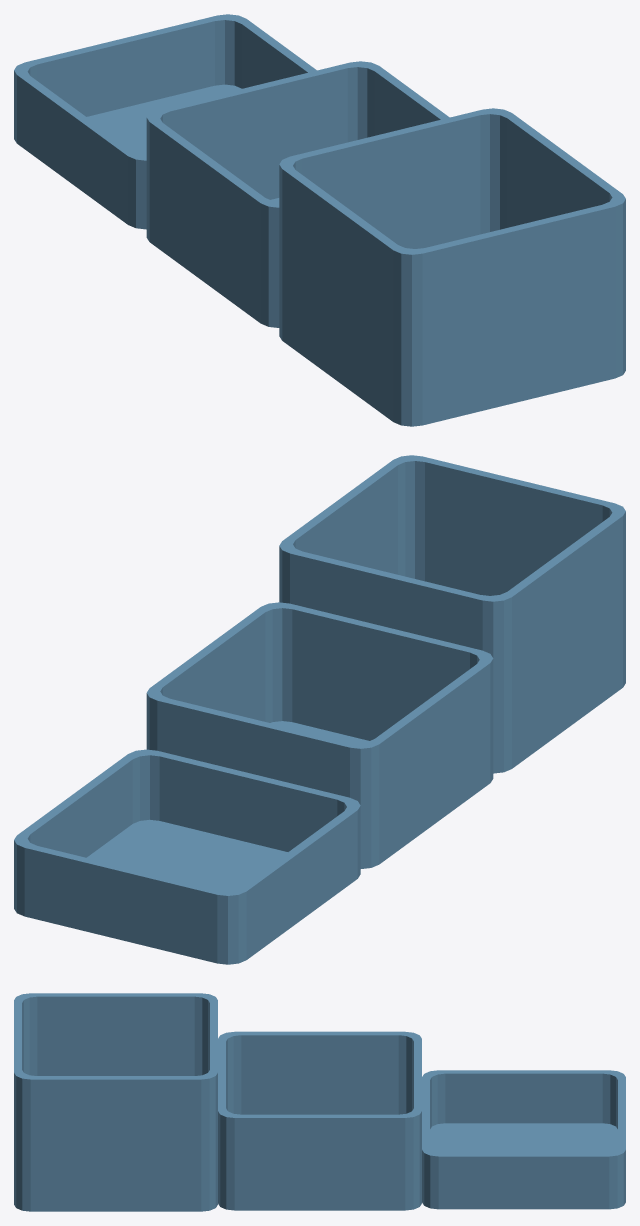
File: vasera.fbx
3 renders of one model, top to bottom at view 1: azimuth 30°, elevation 25°; view 2: azimuth 150°, elevation 25°; view 3: azimuth 270°, elevation 25°, orthographic. The views are drawn at different scales.
Parts seen in each view (by area): view 1: vasera; view 2: vasera; view 3: vasera.
Boxes of the visible parts, bbox=[...] form: vasera: bbox=[14, 14, 625, 426]; vasera: bbox=[14, 455, 625, 964]; vasera: bbox=[14, 993, 625, 1211].
Size of the model in its own units: 11.99 by 35.97 by 8.57.
